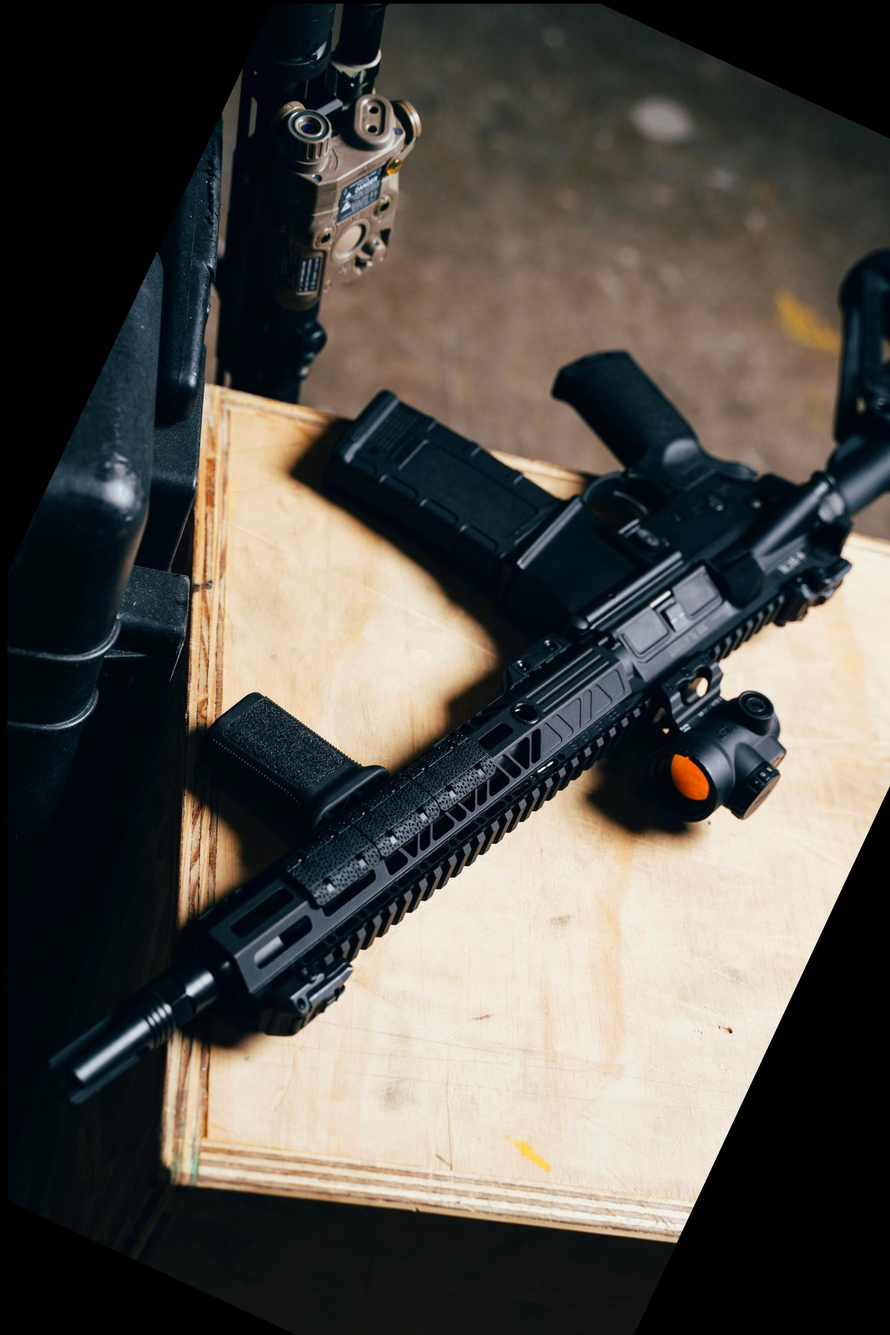larga: (37, 345, 890, 1111)
